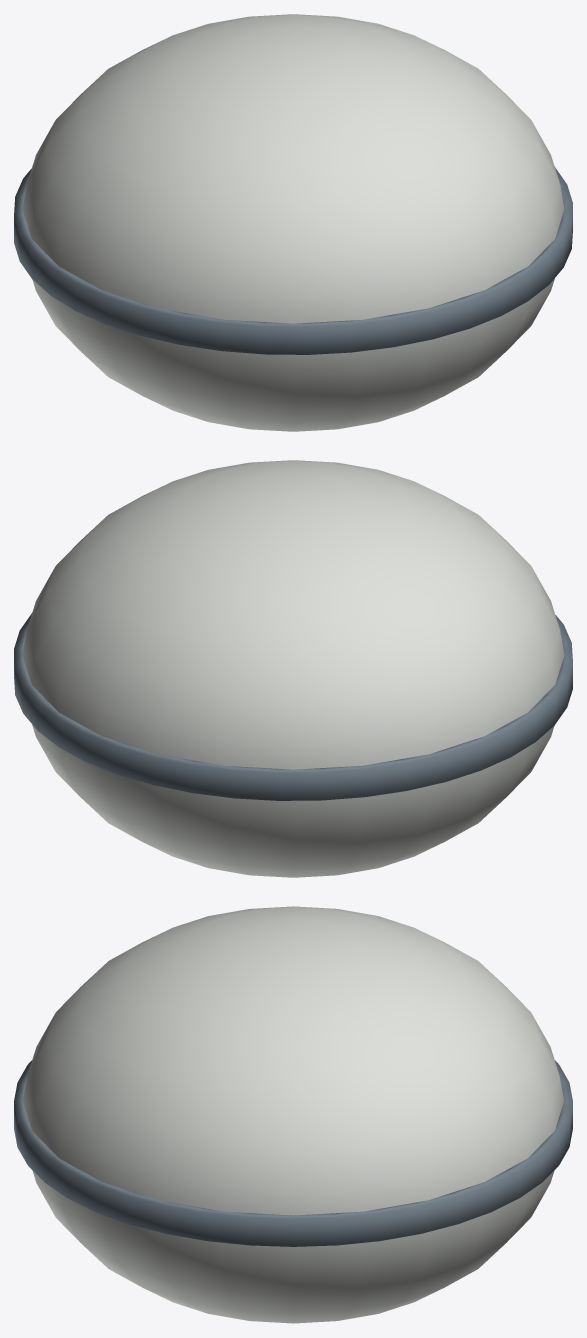
The model's file is mars_descent_stage.propellant_tank_03.glb.
The picture shows the model from 3 angles, top to bottom: view 1: azimuth 30°, elevation 25°; view 2: azimuth 150°, elevation 25°; view 3: azimuth 270°, elevation 25°; orthographic projection.
Parts seen in each view (by area): view 1: mars_descent_stage.propellant_tank_03.mesh_Pale_thermal_blan, mars_descent_stage.propellant_tank_03.mesh_Machined_steel; view 2: mars_descent_stage.propellant_tank_03.mesh_Pale_thermal_blan, mars_descent_stage.propellant_tank_03.mesh_Machined_steel; view 3: mars_descent_stage.propellant_tank_03.mesh_Pale_thermal_blan, mars_descent_stage.propellant_tank_03.mesh_Machined_steel.
Boxes of the visible parts, x1,y1,x2,y2 form: mars_descent_stage.propellant_tank_03.mesh_Pale_thermal_blan: [22, 14, 564, 431]; mars_descent_stage.propellant_tank_03.mesh_Machined_steel: [14, 167, 572, 354]; mars_descent_stage.propellant_tank_03.mesh_Pale_thermal_blan: [22, 460, 564, 877]; mars_descent_stage.propellant_tank_03.mesh_Machined_steel: [14, 613, 572, 800]; mars_descent_stage.propellant_tank_03.mesh_Pale_thermal_blan: [23, 906, 563, 1323]; mars_descent_stage.propellant_tank_03.mesh_Machined_steel: [14, 1060, 572, 1246].
Size of the model in its own units: 0.696 by 0.48 by 0.696.
